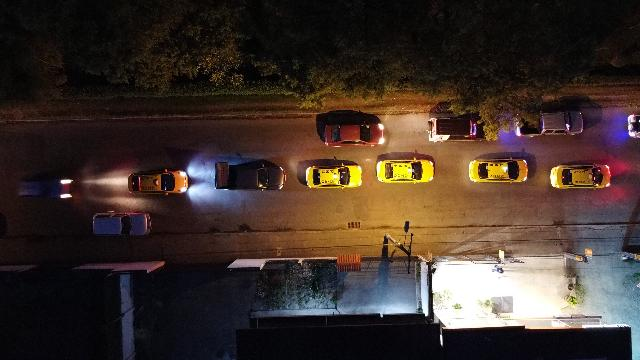Vehiculo: (214, 160, 286, 190), (298, 158, 362, 188), (515, 110, 583, 138), (316, 121, 384, 147), (428, 116, 496, 142), (550, 161, 610, 189), (376, 156, 434, 184), (128, 168, 188, 194), (468, 157, 528, 183), (92, 211, 152, 235), (18, 179, 72, 198), (628, 114, 640, 138)
